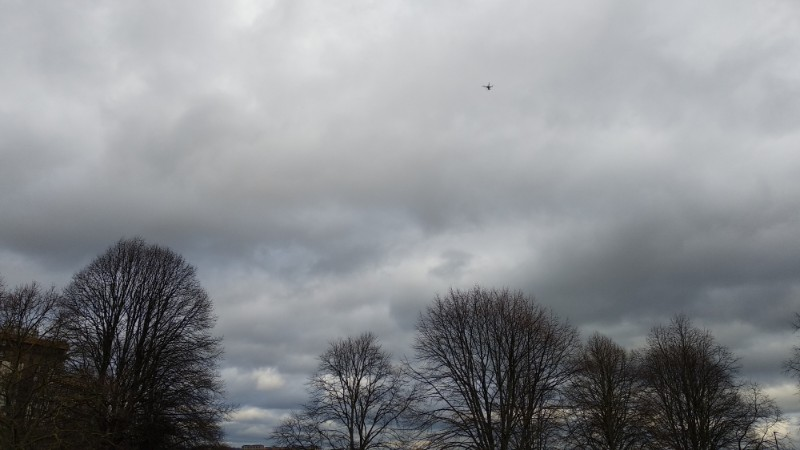drone: (484, 83, 494, 91)
